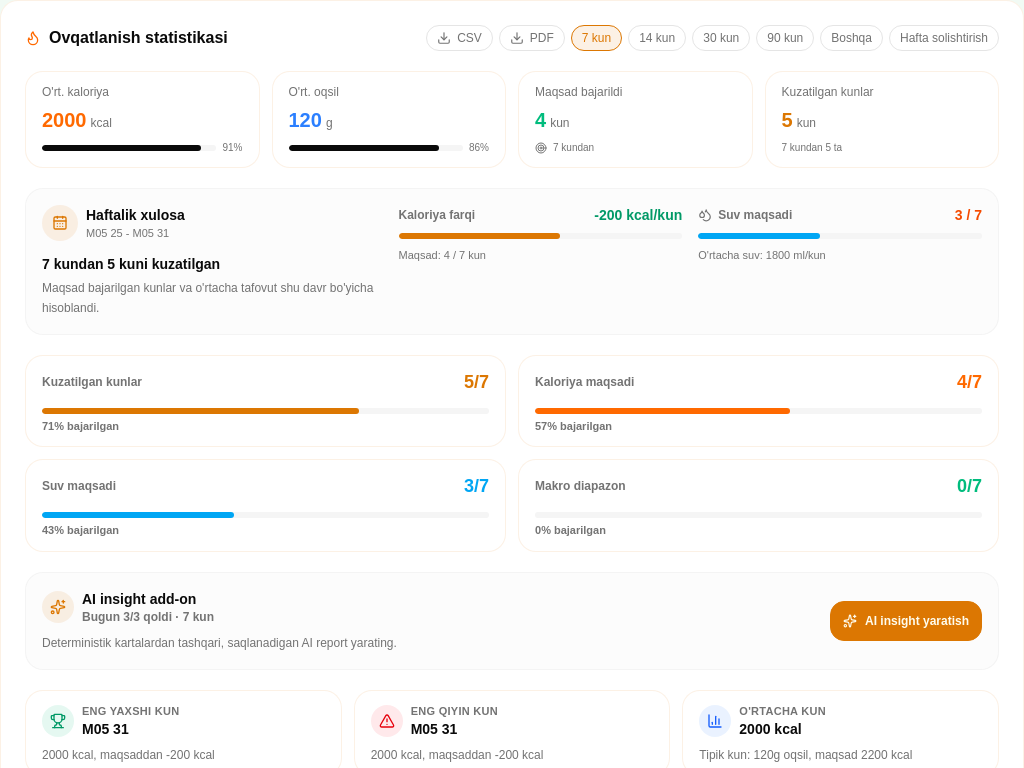
Scenario: NutritionAnalyticsSection › shows weekly and monthly nutrition summary cards for the selected period
The width and height of the screenshot is (1024, 768).
Check: the heading "Haftalik xulosa" is shown, box [86,205,185,225]
Check: the text "7 kundan 5 kuni kuzatilgan" is shown, box [42,256,220,272]
Click the button "30 kun": (721, 38) [692,25,750,51]
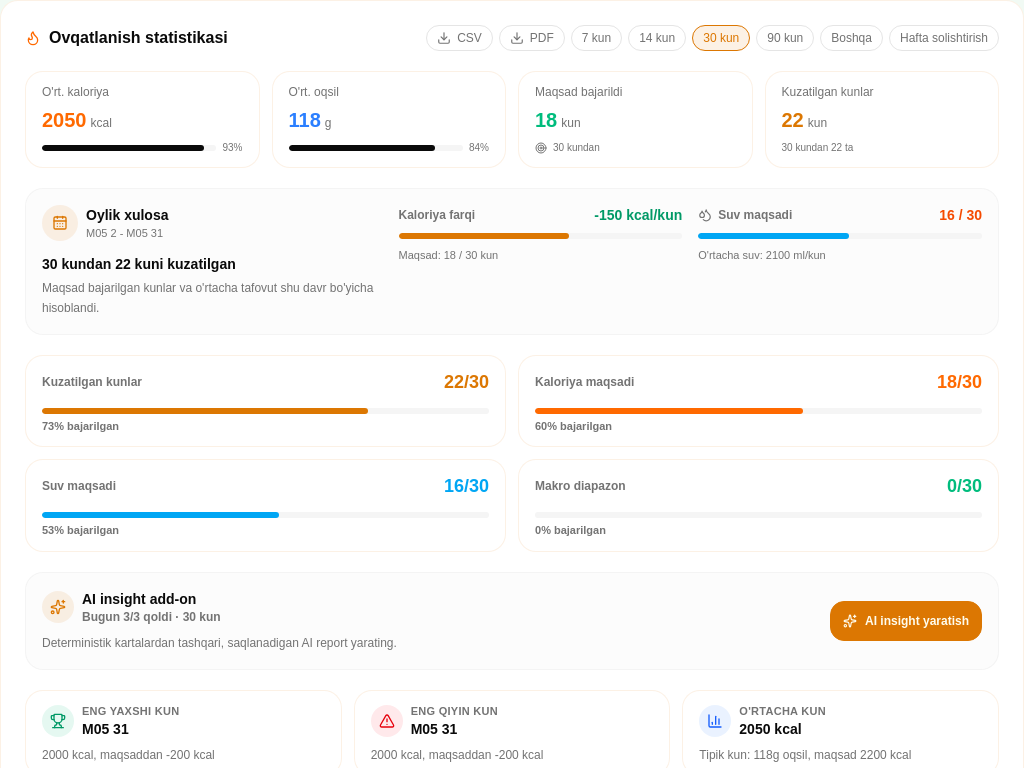
Check: the heading "Oylik xulosa" is shown, box [86,205,168,225]
Check: the text "30 kundan 22 kuni kuzatilgan" is shown, box [42,256,236,272]
Check: the text "-150 kcal/kun" is shown, box [594,205,682,225]
